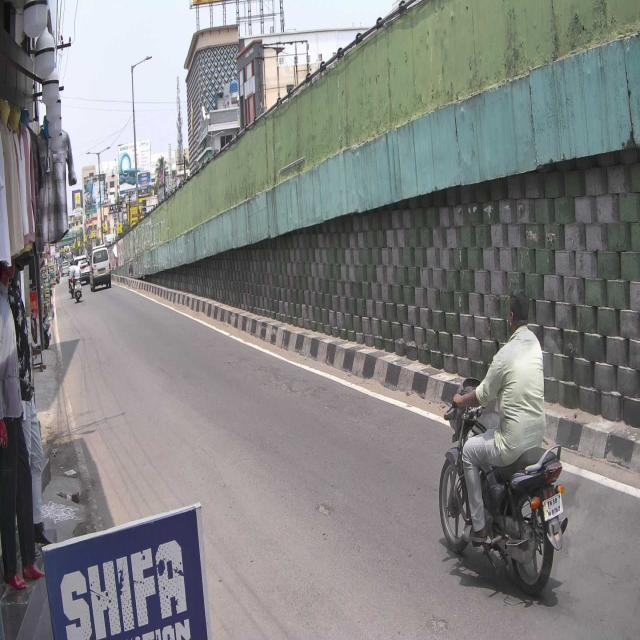single_rider: (440, 288, 570, 596)
